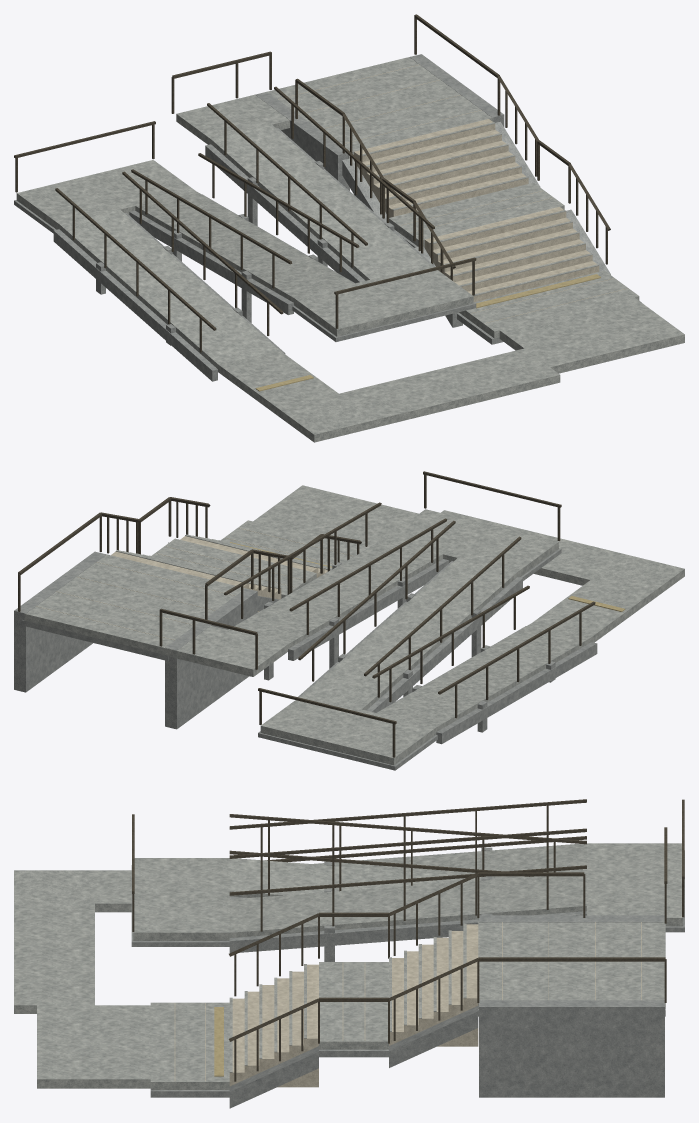
3 views of the same model, one above another, from view 1: azimuth 30°, elevation 25°; view 2: azimuth 150°, elevation 25°; view 3: azimuth 270°, elevation 25° (orthographic). The views are drawn at different scales.
Parts seen in each view (by area): view 1: VIS_Ground_Approach_Connector, VIS_Ramp_Run_1_Slab, VIS_Landing_2_GraniteCap, VIS_Ramp_Run_3_Slab, VIS_Entrance_Plaza, VIS_Ramp_Run_2_Slab, VIS_Ramp_Turn_2_Stone, VIS_Ramp_Turn_1_Stone, VIS_Ground_Approach_ToRamp1, VIS_Landing_0_GraniteCap, VIS_Landing_1_GraniteCap, VIS_Ramp_1_Fascia_-1 (+27 smaller); view 2: VIS_Landing_2_GraniteCap, VIS_Ramp_Run_2_Slab, VIS_Ramp_Run_1_Slab, VIS_Ramp_Run_3_Slab, VIS_Ramp_Turn_1_Stone, VIS_Ground_Approach_ToRamp1, VIS_Ramp_Turn_2_Stone, VIS_Entrance_Plaza, VIS_UpperPlinth_Side_-1, VIS_Ground_Approach_Connector, VIS_UpperPlinth_Side_1, VIS_Landing_1_GraniteCap (+18 smaller); view 3: VIS_UpperPlinth_Side_1, VIS_Landing_2_GraniteCap, VIS_Ramp_Run_3_Slab, VIS_Ground_Approach_Connector, VIS_Entrance_Plaza, VIS_Ramp_Turn_2_Stone, VIS_Landing_0_GraniteCap, VIS_Landing_1_GraniteCap, VIS_Ramp_Run_2_Slab, VIS_Ramp_Run_1_Slab, VIS_Ramp_Turn_1_Stone, VIS_Ramp_3_Fascia_1 (+30 smaller).
Boxes of the visible parts, box(x1,y1,x2,y2) form: VIS_Ground_Approach_Connector: box(278, 348, 560, 442); VIS_Ramp_Run_1_Slab: box(59, 210, 278, 371); VIS_Landing_2_GraniteCap: box(268, 57, 493, 158); VIS_Ramp_Run_3_Slab: box(211, 124, 430, 280); VIS_Entrance_Plaza: box(499, 297, 684, 373); VIS_Ramp_Run_2_Slab: box(135, 191, 354, 305); VIS_Ramp_Turn_2_Stone: box(294, 265, 473, 336); VIS_Ramp_Turn_1_Stone: box(16, 160, 195, 229); VIS_Ground_Approach_ToRamp1: box(218, 350, 373, 441); VIS_Landing_0_GraniteCap: box(459, 270, 639, 338); VIS_Landing_1_GraniteCap: box(389, 182, 564, 246); VIS_Ramp_1_Fascia_-1: box(53, 229, 217, 381); VIS_Landing_2_GraniteCap: box(24, 554, 245, 654); VIS_Ramp_Run_2_Slab: box(303, 558, 516, 710); VIS_Ramp_Run_1_Slab: box(377, 623, 591, 734); VIS_Ramp_Run_3_Slab: box(229, 540, 442, 651); VIS_Ramp_Turn_1_Stone: box(260, 695, 435, 765); VIS_Ground_Approach_ToRamp1: box(532, 555, 684, 642); VIS_Ramp_Turn_2_Stone: box(384, 509, 558, 577); VIS_Entrance_Plaza: box(253, 485, 418, 548); VIS_UpperPlinth_Side_-1: box(165, 588, 257, 729); VIS_Ground_Approach_Connector: box(441, 510, 684, 601); VIS_UpperPlinth_Side_1: box(14, 551, 106, 692); VIS_Landing_1_GraniteCap: box(151, 538, 316, 598); VIS_UpperPlinth_Side_1: box(479, 1000, 664, 1097); VIS_Landing_2_GraniteCap: box(478, 921, 665, 1008); VIS_Ramp_Run_3_Slab: box(229, 872, 586, 937); VIS_Ground_Approach_Connector: box(14, 870, 94, 1013); VIS_Entrance_Plaza: box(37, 1005, 150, 1088); VIS_Ramp_Turn_2_Stone: box(133, 858, 229, 940); VIS_Landing_0_GraniteCap: box(150, 1002, 229, 1089); VIS_Landing_1_GraniteCap: box(319, 962, 388, 1049); VIS_Ramp_Run_2_Slab: box(229, 858, 502, 897); VIS_Ramp_Run_1_Slab: box(313, 843, 586, 878); VIS_Ramp_Turn_1_Stone: box(587, 843, 683, 926); VIS_Ramp_3_Fascia_1: box(229, 911, 586, 952).
Size of the model in its own units: 11.95 by 3.78 by 15.32.
5 materials, 5 textured.
